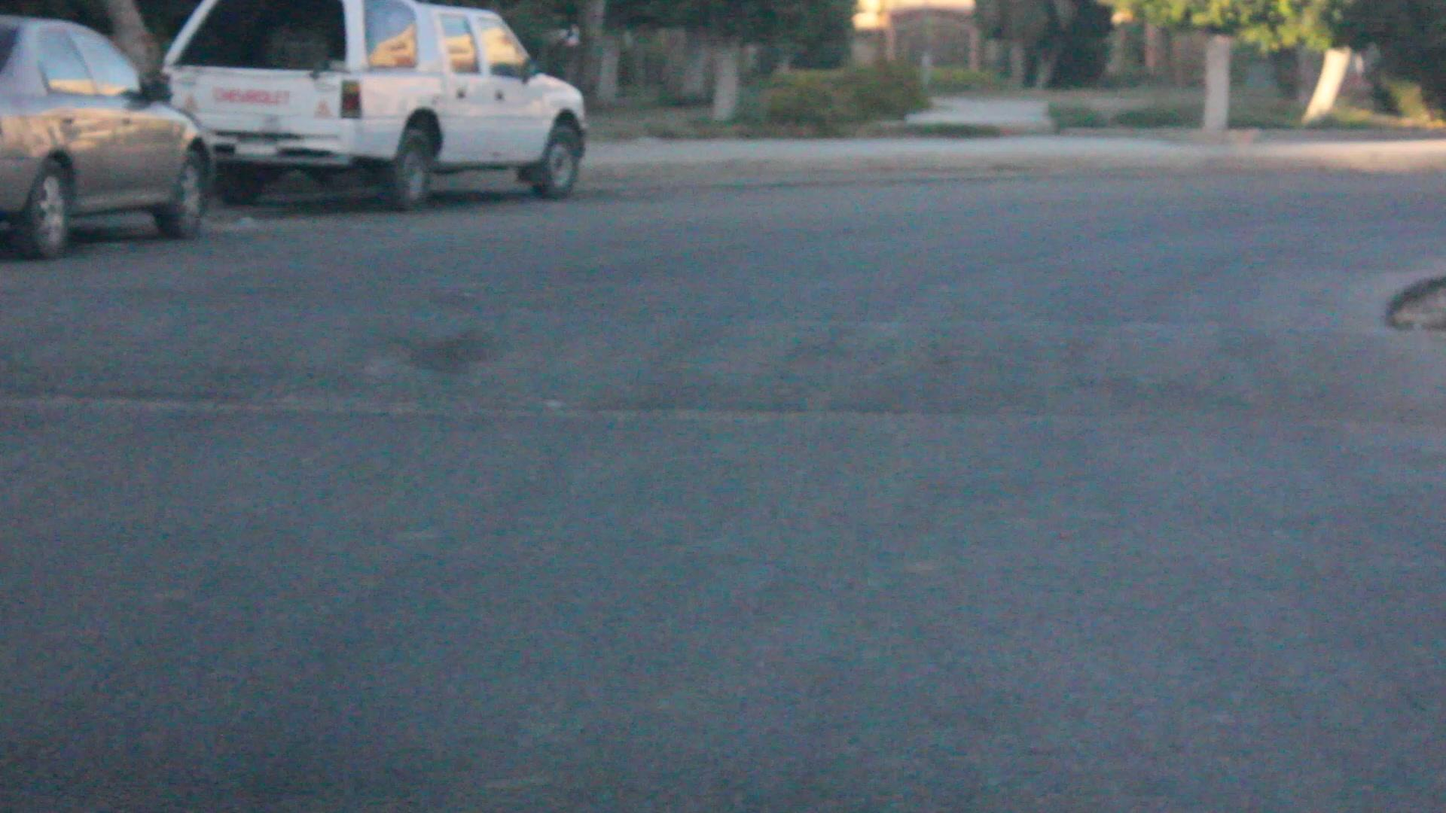Bump: (2, 267, 1446, 469)
